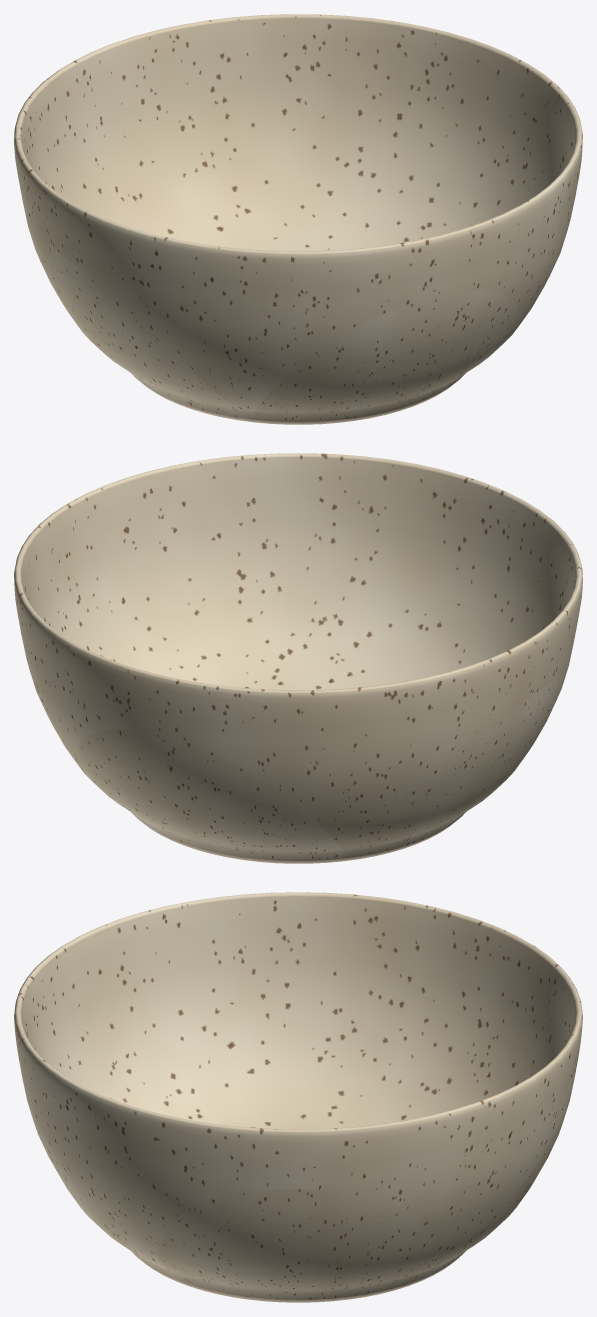
3 views of the same model, one above another, from view 1: azimuth 30°, elevation 25°; view 2: azimuth 150°, elevation 25°; view 3: azimuth 270°, elevation 25° (orthographic).
Parts seen in each view (by area): view 1: Cereal bowl, ceramic; view 2: Cereal bowl, ceramic; view 3: Cereal bowl, ceramic.
Boxes of the visible parts, x1,y1,x2,y2 form: Cereal bowl, ceramic: (14,14,582,424); Cereal bowl, ceramic: (14,453,582,863); Cereal bowl, ceramic: (14,892,582,1302).
Bounding box in the file's own units: 0.1548 × 0.0656 × 0.1548.
2 materials, 1 textured.
